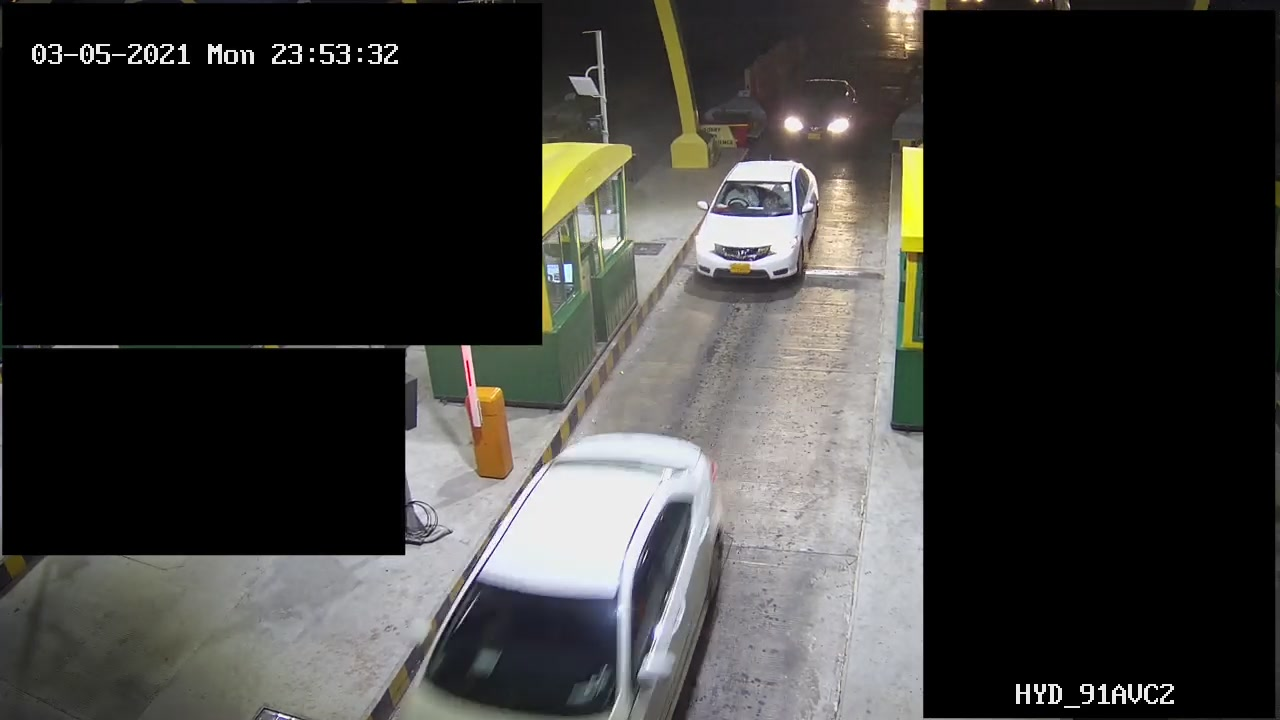F1: (693, 152, 826, 302)
